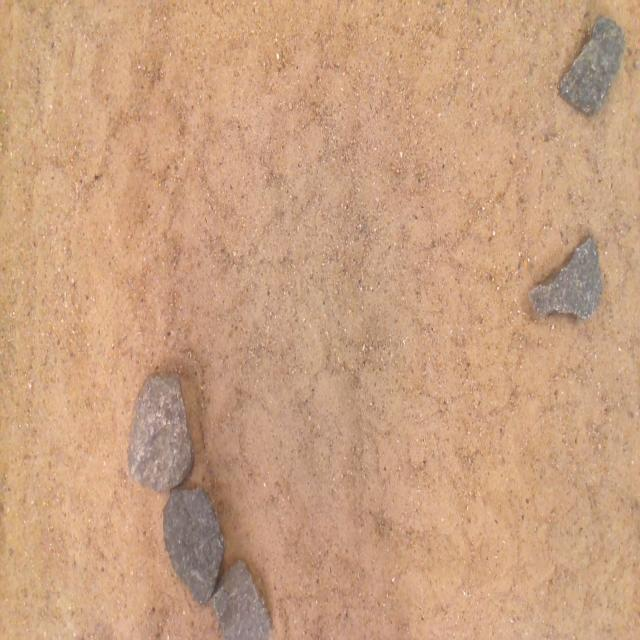rock: (128, 375, 193, 491), (163, 487, 224, 603), (559, 17, 624, 114), (528, 236, 601, 318), (213, 561, 271, 639)
